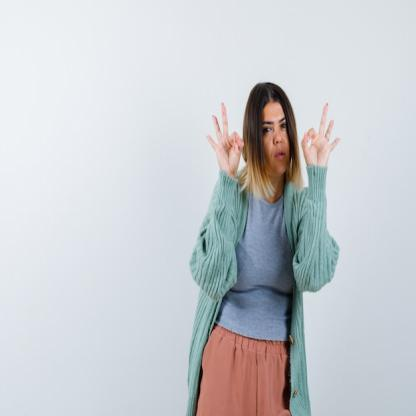ok: (206, 98, 246, 180), (300, 96, 340, 174)
